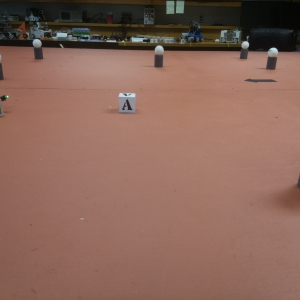obstacle: (30, 39, 47, 61), (150, 45, 166, 68), (236, 39, 250, 63), (268, 47, 276, 71)
